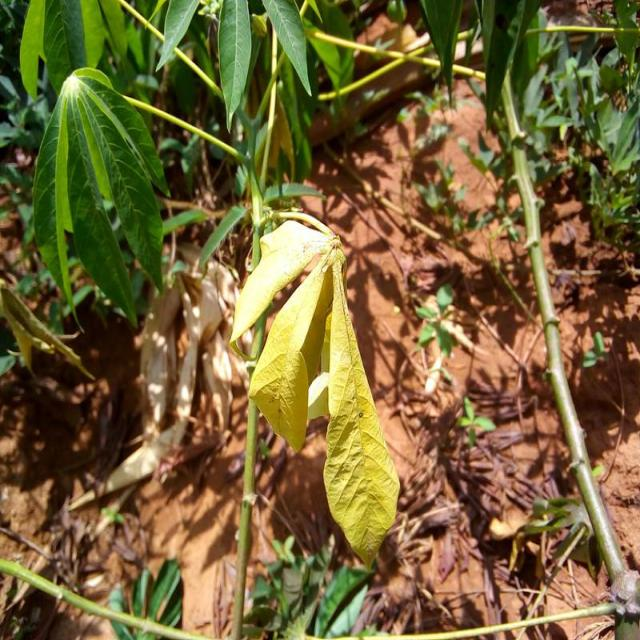cassava leaf: (229, 212, 400, 570), (31, 65, 169, 330)
